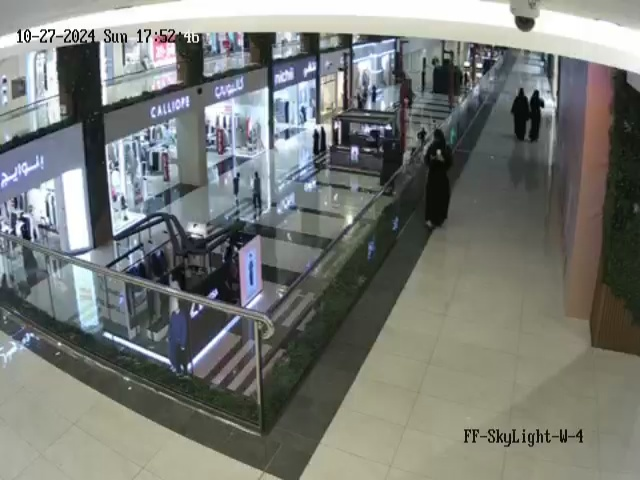female: (423, 128, 454, 230), (510, 87, 530, 141), (528, 89, 545, 143)
other: (159, 299, 197, 384)
